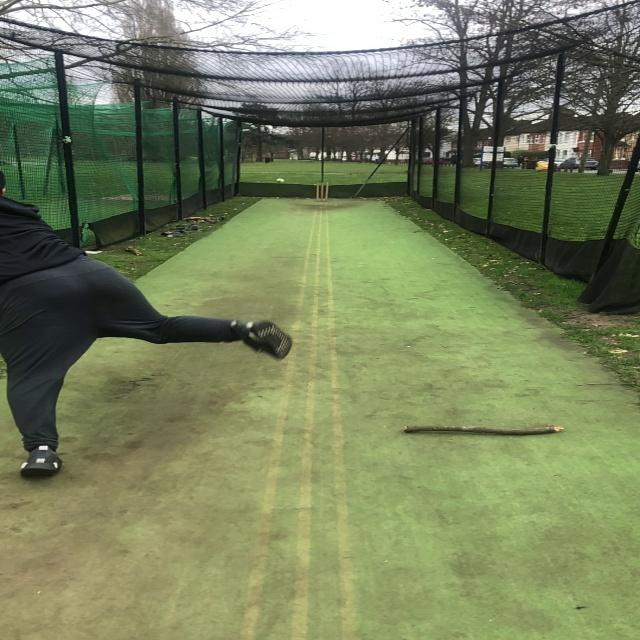ball: (277, 178, 285, 184)
